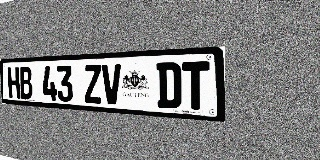3: (56, 65, 73, 102)
4: (42, 66, 57, 101)
B: (19, 67, 33, 100)
D: (156, 62, 182, 109)
H: (7, 67, 20, 99)
T: (182, 61, 210, 111)
V: (102, 64, 122, 105)
Z: (83, 65, 102, 104)
